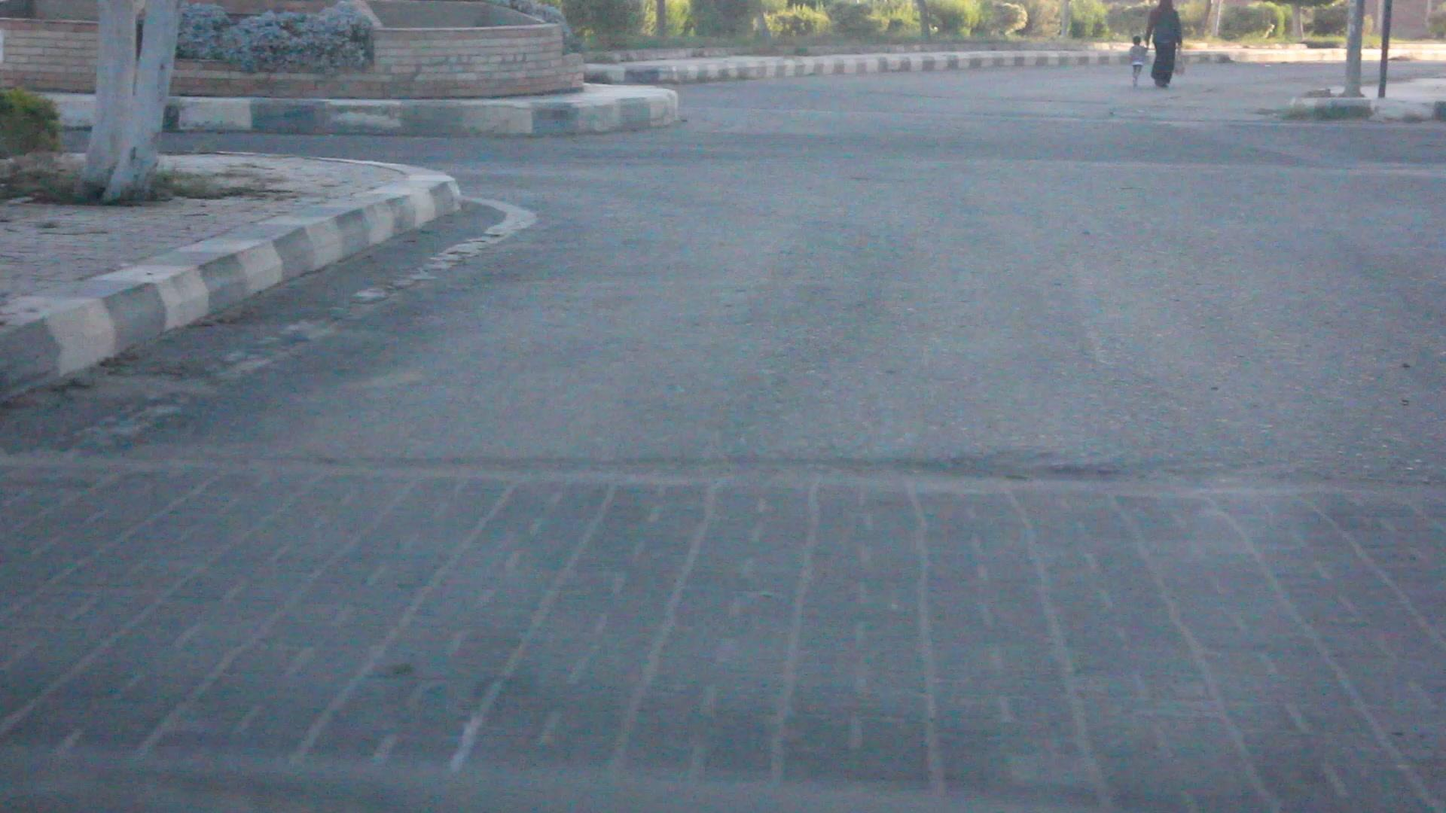Bump: (4, 454, 1446, 796)
